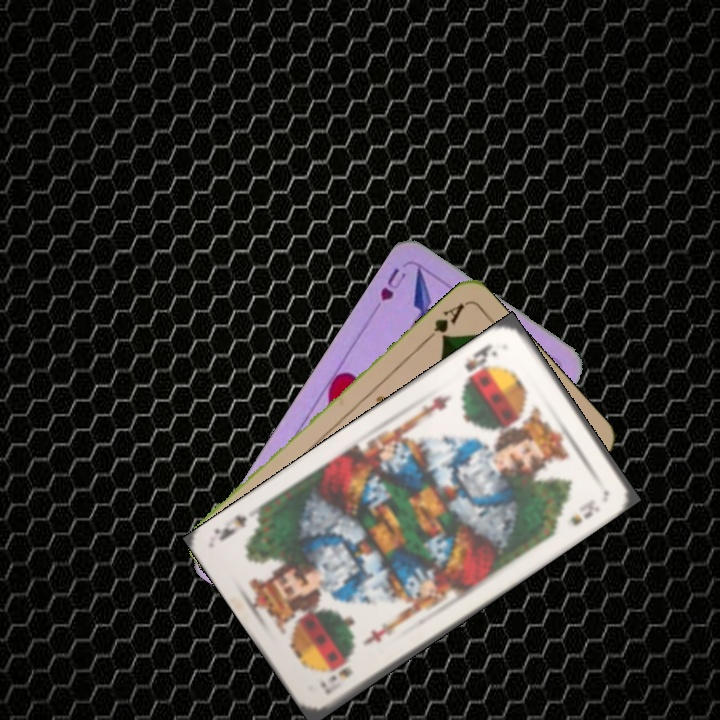GA: (420, 299, 468, 345)
HU: (376, 263, 409, 304)
SK: (458, 339, 501, 386), (316, 662, 356, 697)
